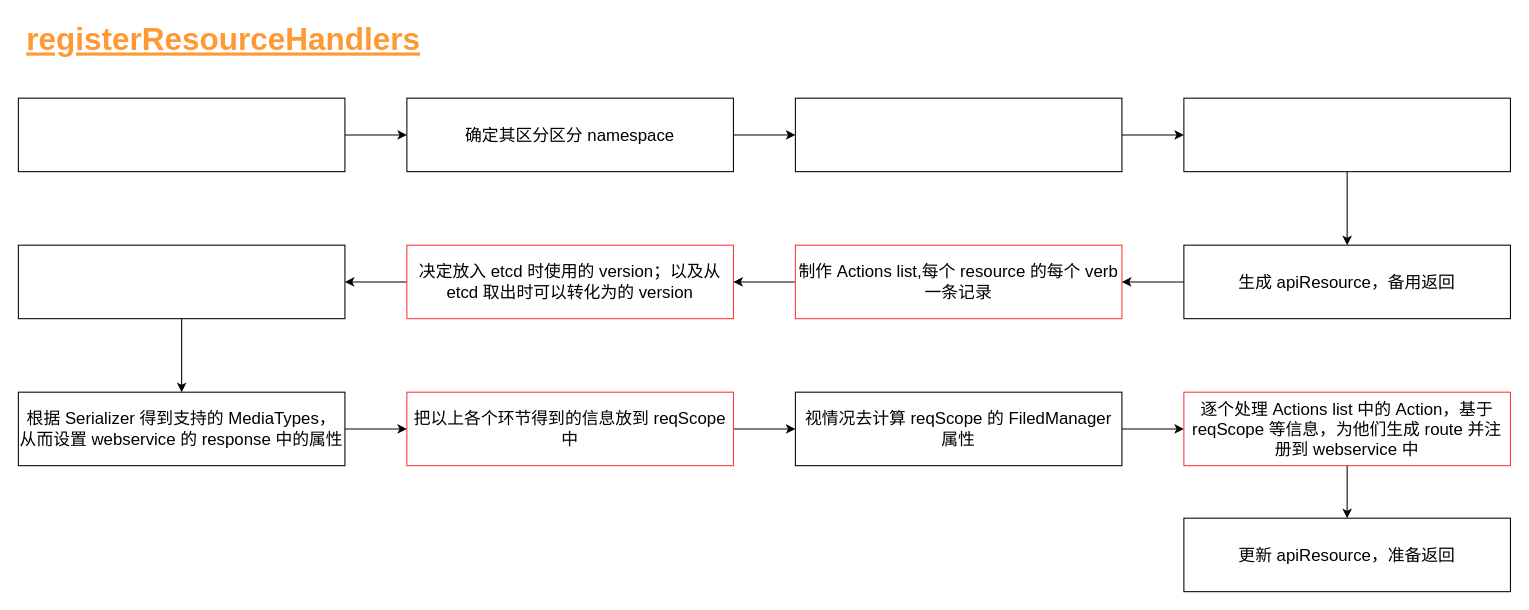
This 1529x610 diagram has some shape labels left out. Here are the shapes that lost their labels. From the top down, the centre of each, then its label:
At (x=181, y=134): "获取被注册的 object 的 group 与 version； 确定不是 subresource".
At (x=958, y=134): "根据传入的 storage 对象实现的接口，确定支持的各种操作（verbs）".
At (x=1346, y=134): "创建 ListOptions、CreateOptions、PatchOptions、UpdateOptions 以及其他的各种 Options".
At (x=181, y=281): "生成 ResourceInfo，备用返回".
